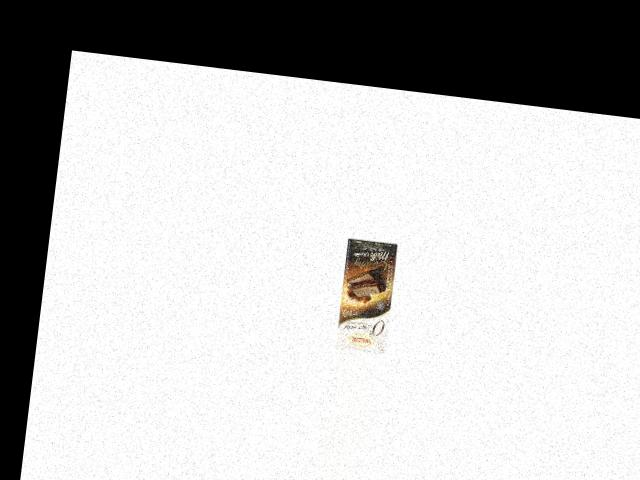chocolate: (332, 237, 401, 354)
